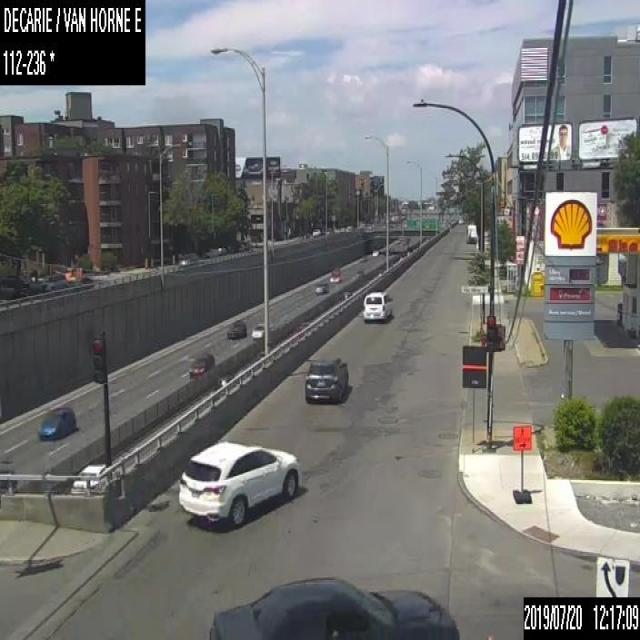construction: (511, 424, 531, 502), (75, 266, 79, 276), (78, 266, 82, 276)
vehicle: (207, 574, 458, 638), (176, 439, 299, 525), (303, 358, 349, 402), (36, 404, 76, 437), (69, 461, 105, 491), (361, 289, 393, 319), (188, 351, 216, 377), (39, 274, 67, 290), (226, 318, 246, 338), (250, 320, 264, 337), (465, 223, 476, 244), (315, 280, 327, 293), (329, 267, 340, 281), (203, 248, 217, 258), (355, 268, 363, 278), (217, 246, 226, 254), (312, 227, 320, 236), (371, 249, 378, 256)
